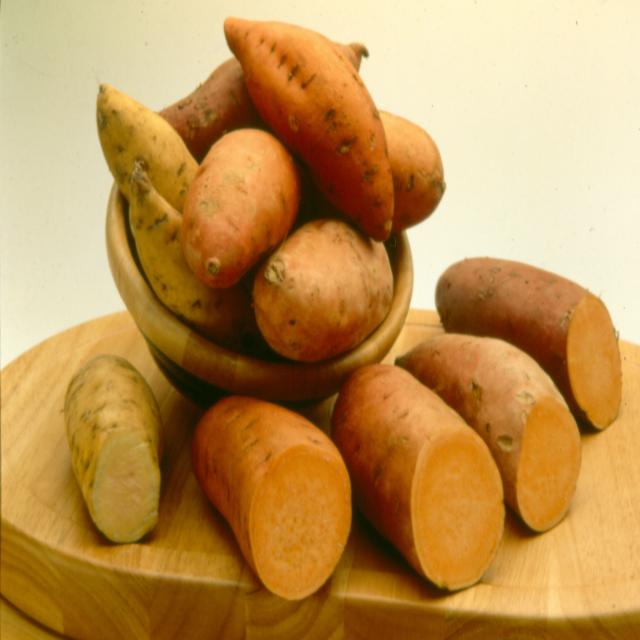sweet potato: (98, 19, 442, 362), (331, 259, 621, 591), (194, 401, 350, 600)
